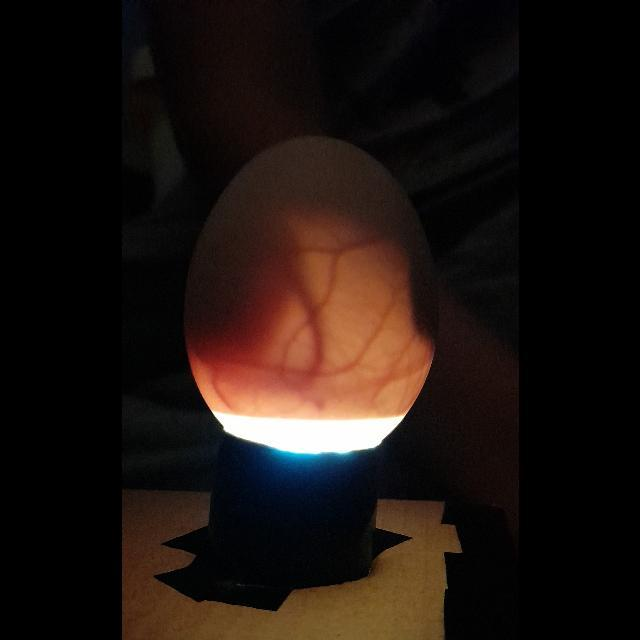Fertile: (175, 132, 437, 460)
